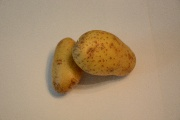potato: (73, 29, 137, 80), (51, 36, 83, 95)
